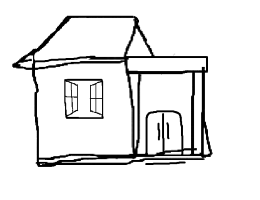door: (142, 108, 185, 159)
open_window: (60, 76, 109, 122)
roof: (10, 15, 153, 70), (122, 52, 212, 77)
wall: (31, 58, 137, 167)
